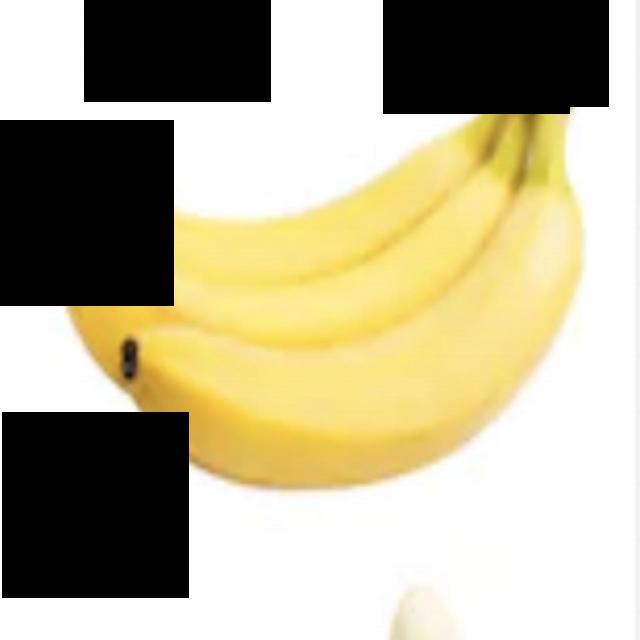banana: (81, 79, 626, 530), (19, 69, 586, 386), (0, 63, 560, 279)
